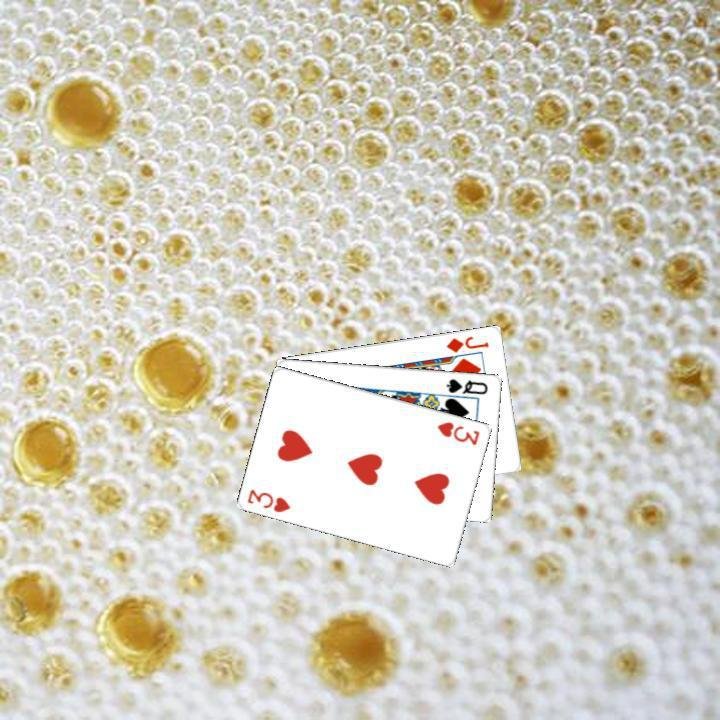3: (243, 484, 293, 514), (433, 417, 482, 447)
J: (442, 332, 491, 354)
Q: (442, 374, 490, 396)
